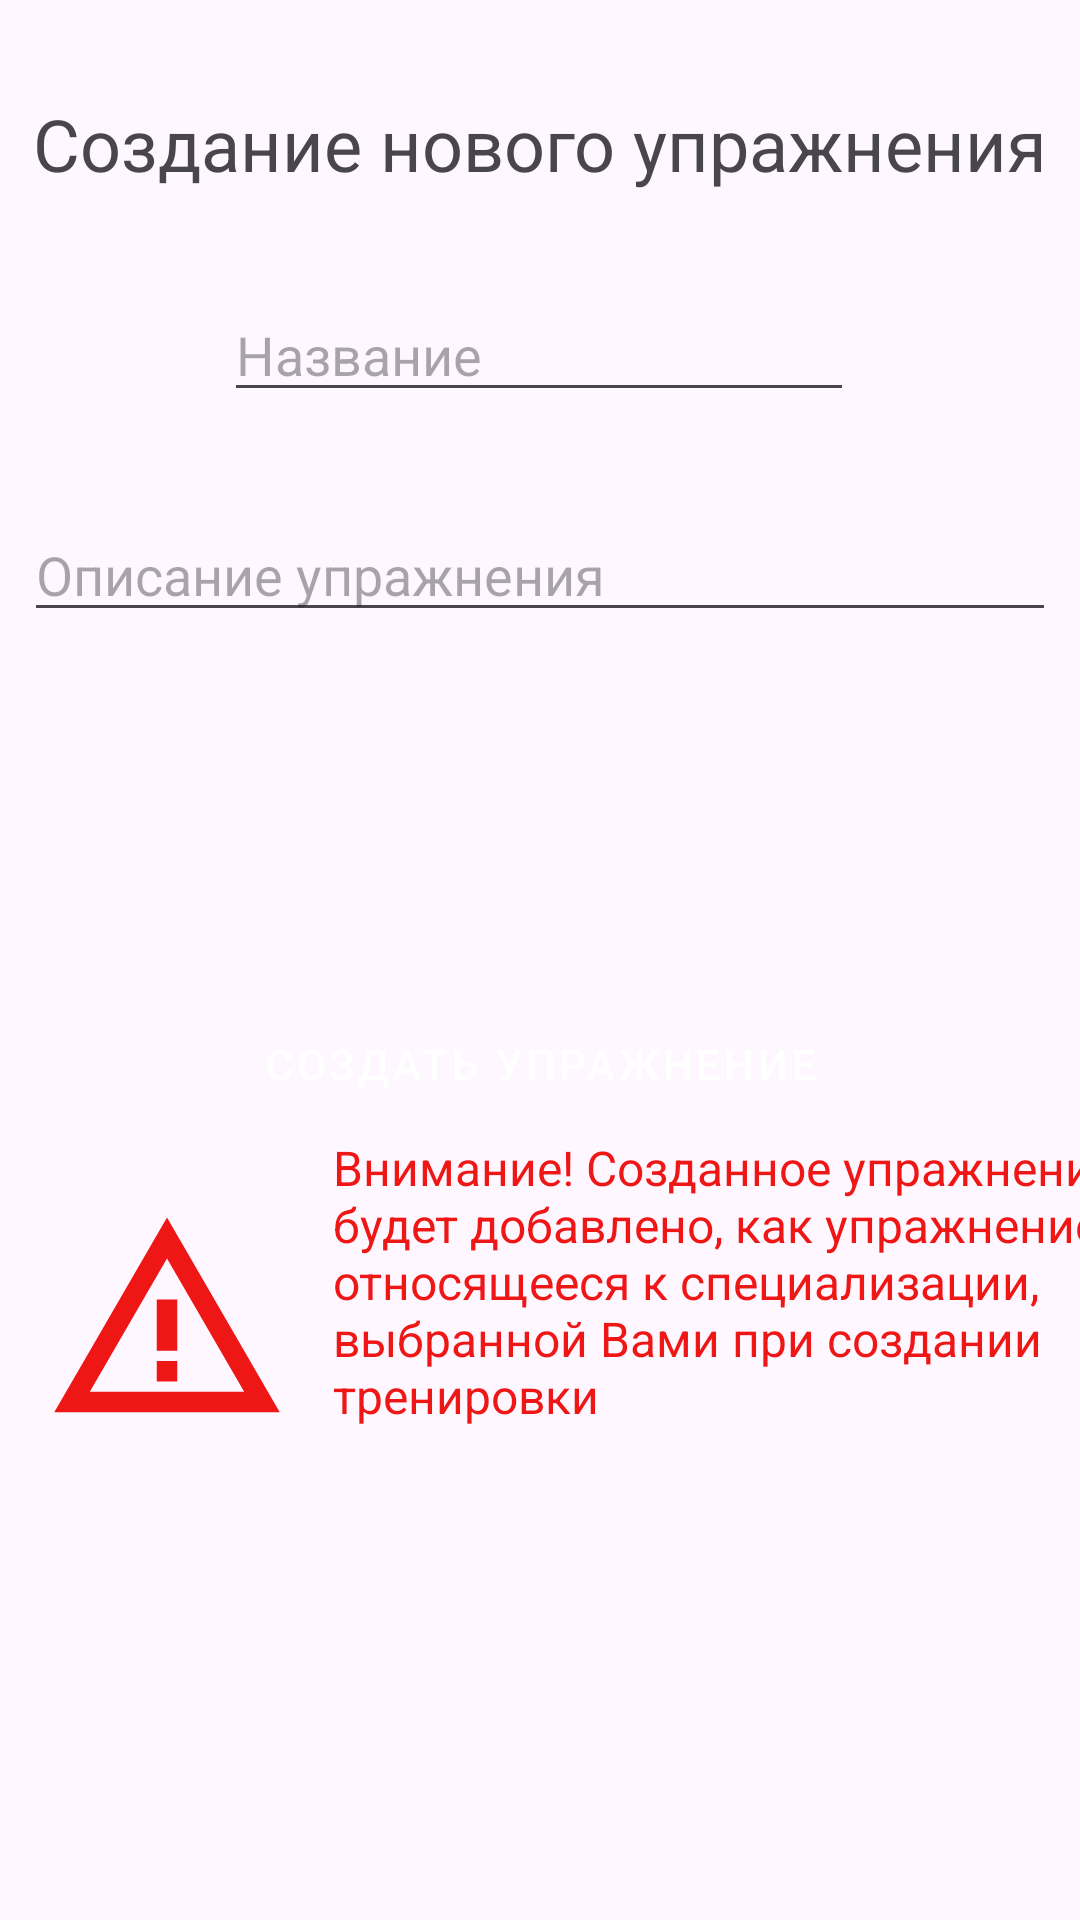

Icon click points for this 1080*1920 phone screenshot, format (x=x, y=y):
warning amber: (x=167, y=1315)
